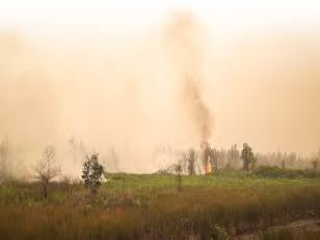fire: (205, 162, 214, 177)
smoke: (170, 15, 220, 163), (31, 154, 118, 194)
